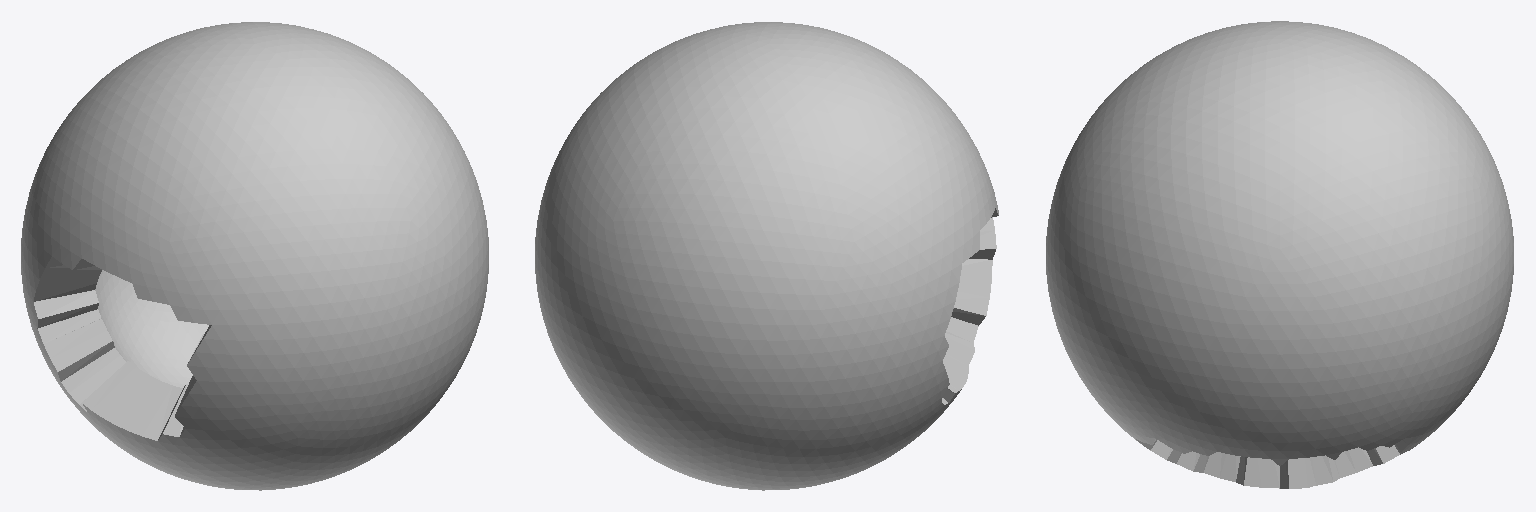
Rendered from clouds_2.obj.
3 views of the same model, side by side, from view 1: azimuth 30°, elevation 25°; view 2: azimuth 150°, elevation 25°; view 3: azimuth 270°, elevation 25° (orthographic).
Visible parts, largest first — view 1: Icosphere.027; view 2: Icosphere.027; view 3: Icosphere.027.
Boxes of the visible parts, <box> form: Icosphere.027: <box>21,22,488,490</box>; Icosphere.027: <box>535,22,998,490</box>; Icosphere.027: <box>1046,21,1513,488</box>.
Size of the model in its own units: 21.55 by 21.66 by 21.66.